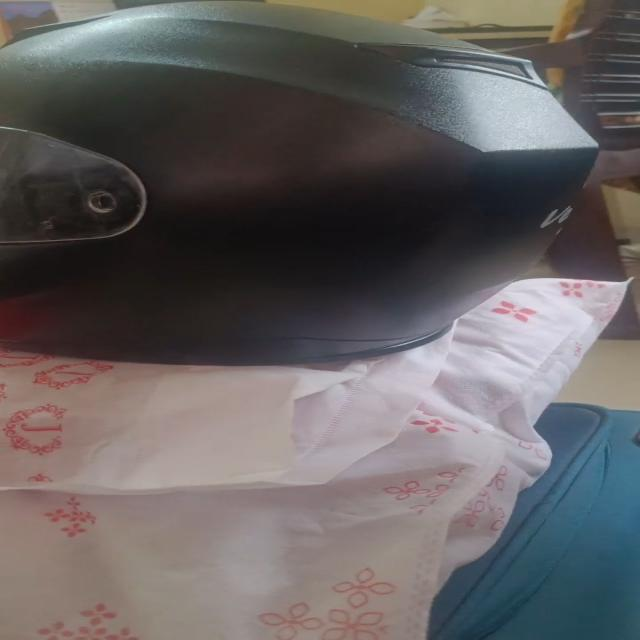Helmet: (0, 0, 599, 366)
